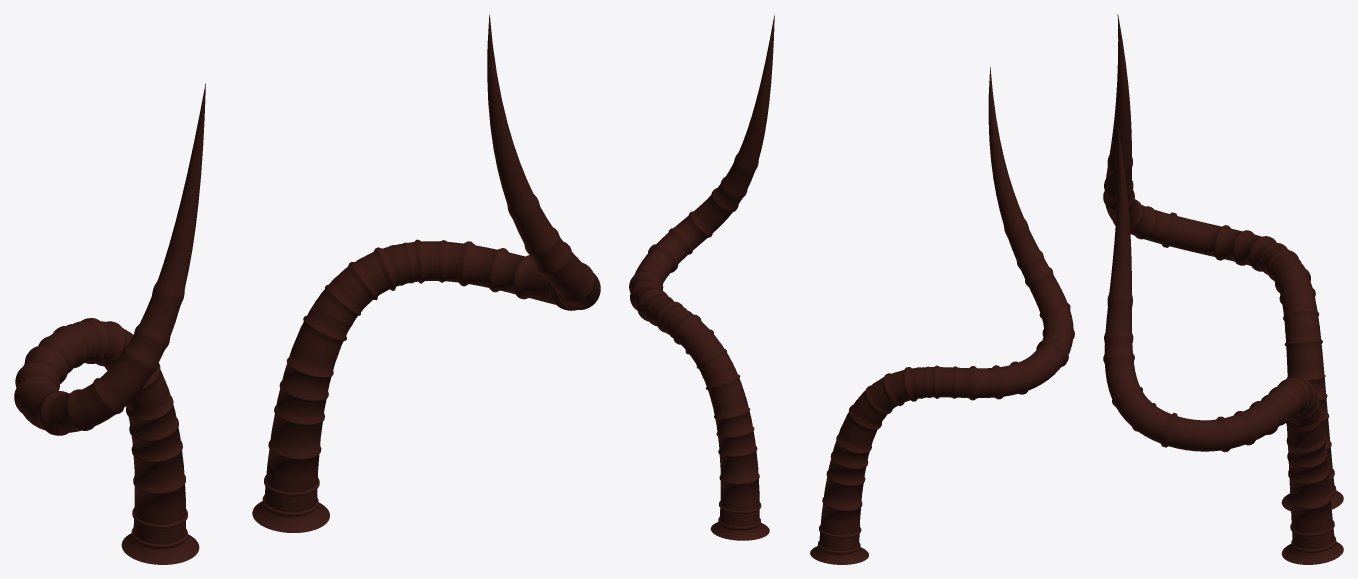
File: impala_horn_color.glb
The picture shows the model from 3 angles, left to right: view 1: azimuth 30°, elevation 25°; view 2: azimuth 150°, elevation 25°; view 3: azimuth 270°, elevation 25°; orthographic projection. The views are drawn at different scales.
Visible parts, largest first — view 1: NurbsPath.002; view 2: NurbsPath.002; view 3: NurbsPath.002.
Part boxes in pixels (<box>): NurbsPath.002: <box>14,14,600,564</box>; NurbsPath.002: <box>629,14,1074,564</box>; NurbsPath.002: <box>1103,14,1343,564</box>.
Bounding box in the file's own units: 3.92 × 3.9 × 1.85.
